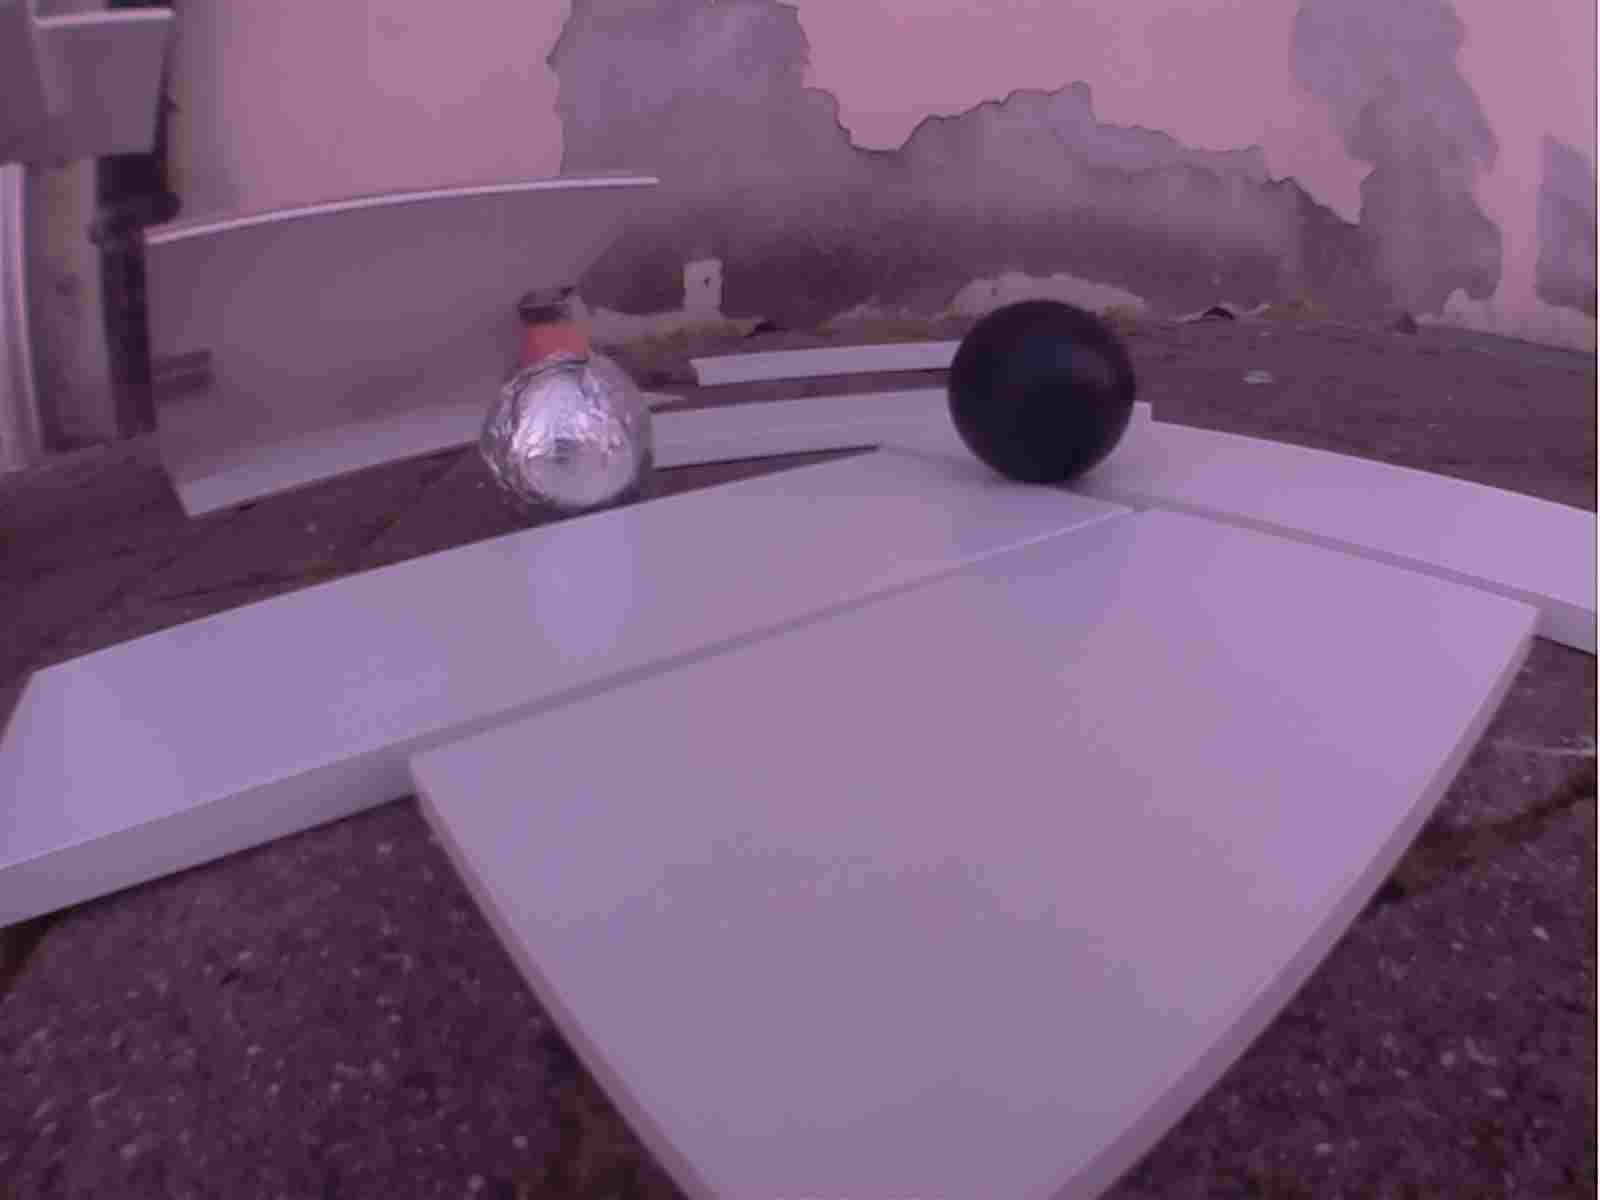bianca: (483, 355, 674, 526)
nera: (947, 299, 1139, 490)
